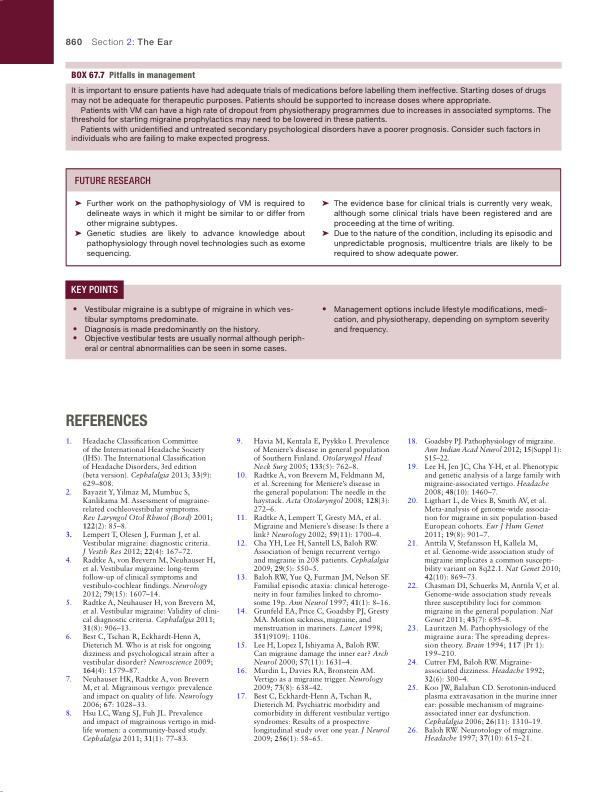caption: (70, 70, 196, 81), (74, 175, 152, 185)
header: (91, 36, 174, 46)
list: (234, 436, 392, 744), (406, 436, 562, 745), (65, 437, 217, 745), (73, 198, 306, 260), (320, 198, 554, 259), (72, 305, 306, 354), (321, 305, 551, 336)
section-heading: (64, 412, 149, 428)
text: (70, 86, 554, 145)
